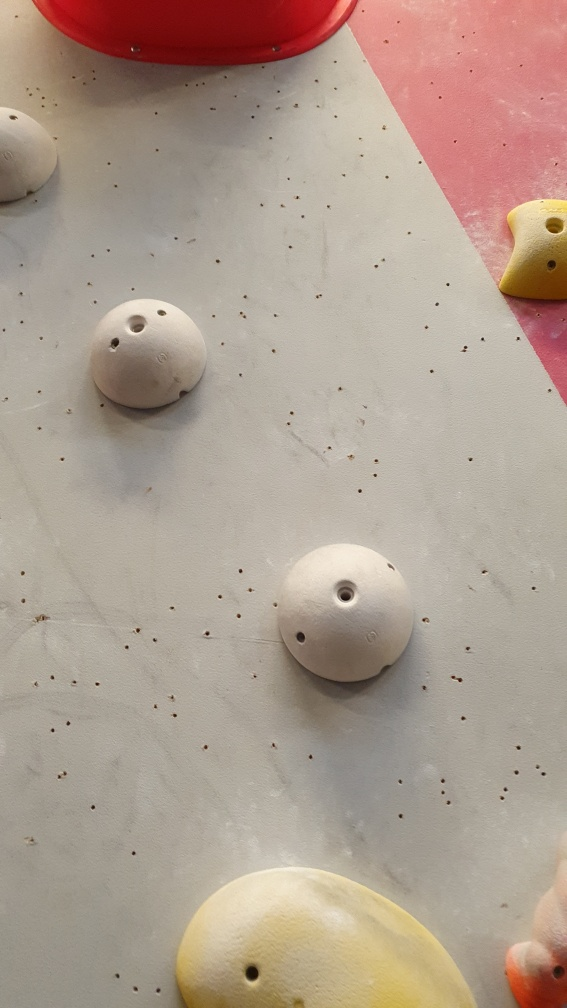Sloper: (276, 540, 420, 693), (83, 294, 212, 416), (1, 105, 61, 208)
